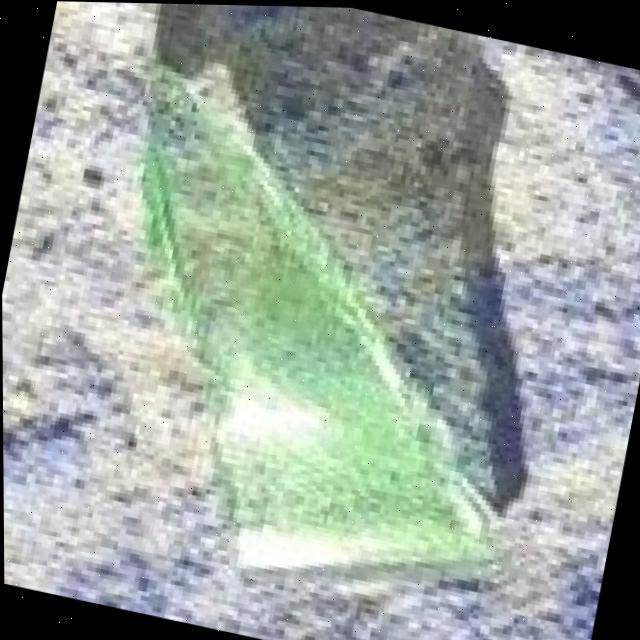Dry: (64, 65, 575, 626)
